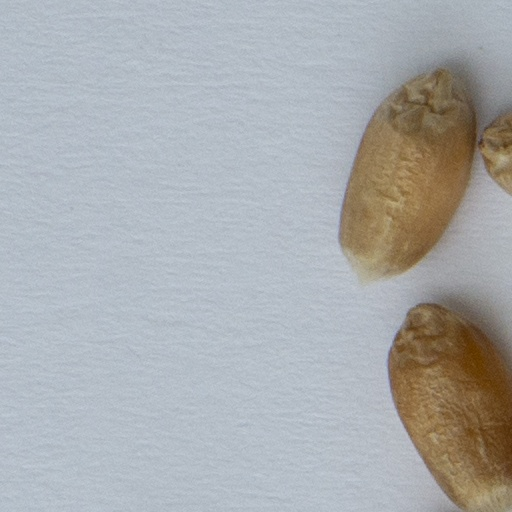Wheat-grain-poly: (335, 64, 476, 284), (387, 299, 511, 511), (477, 107, 511, 195)
